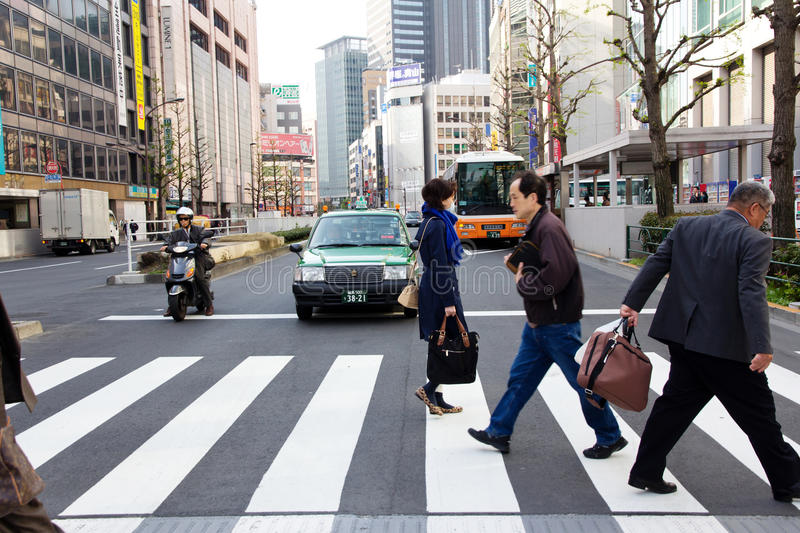person: (622, 180, 800, 502), (467, 171, 627, 459), (414, 178, 479, 416), (159, 205, 215, 316), (690, 186, 709, 204), (130, 218, 140, 244)
